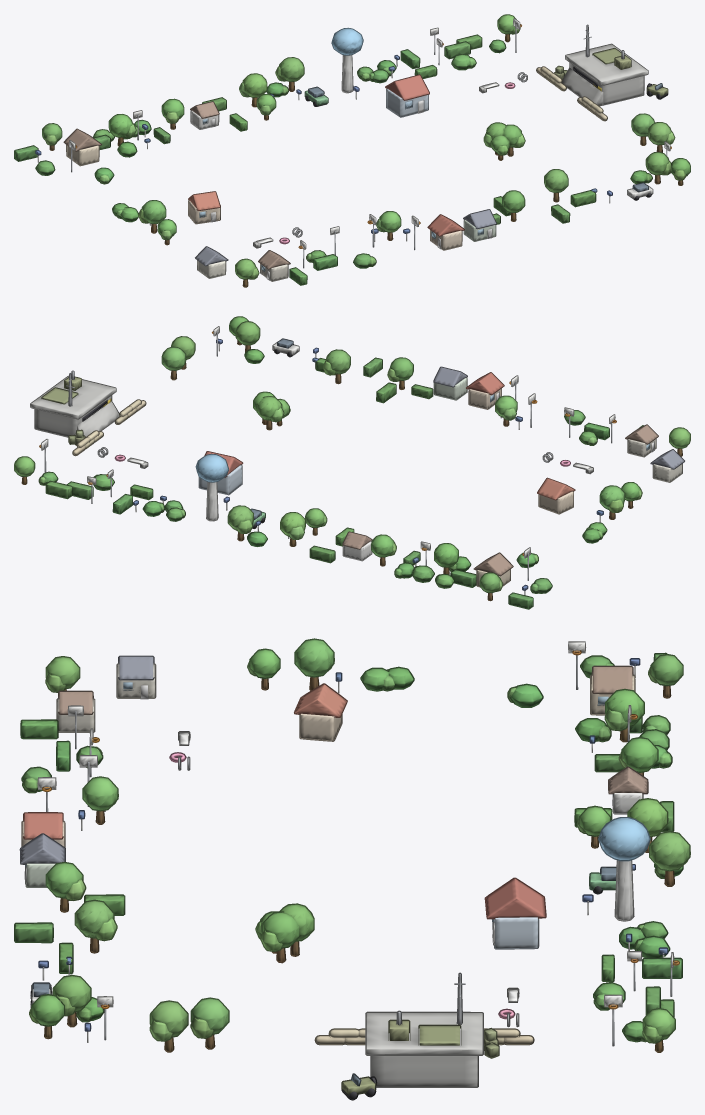
File: suburbia.glb
The picture shows the model from 3 angles, top to bottom: view 1: azimuth 30°, elevation 25°; view 2: azimuth 150°, elevation 25°; view 3: azimuth 270°, elevation 25°; orthographic projection. The views are drawn at different scales.
Parts seen in each view (by area): view 1: Baked_matte, Baked_matte_Outline, Baked_metal, Baked_gloss; view 2: Baked_matte, Baked_matte_Outline, Baked_metal; view 3: Baked_matte, Baked_matte_Outline, Baked_metal.
Part boxes in pixels (box(x1,y1,x2,y2)): Baked_matte: box(14, 15, 690, 286); Baked_matte_Outline: box(14, 14, 690, 287); Baked_metal: box(71, 24, 667, 268); Baked_gloss: box(199, 83, 662, 270); Baked_matte: box(14, 317, 690, 608); Baked_matte_Outline: box(14, 316, 690, 609); Baked_metal: box(44, 331, 612, 580); Baked_matte: box(15, 639, 689, 1099); Baked_matte_Outline: box(14, 638, 690, 1100); Baked_metal: box(46, 655, 672, 1046).
Size of the model in its own units: 40.64 by 4.42 by 26.76.
